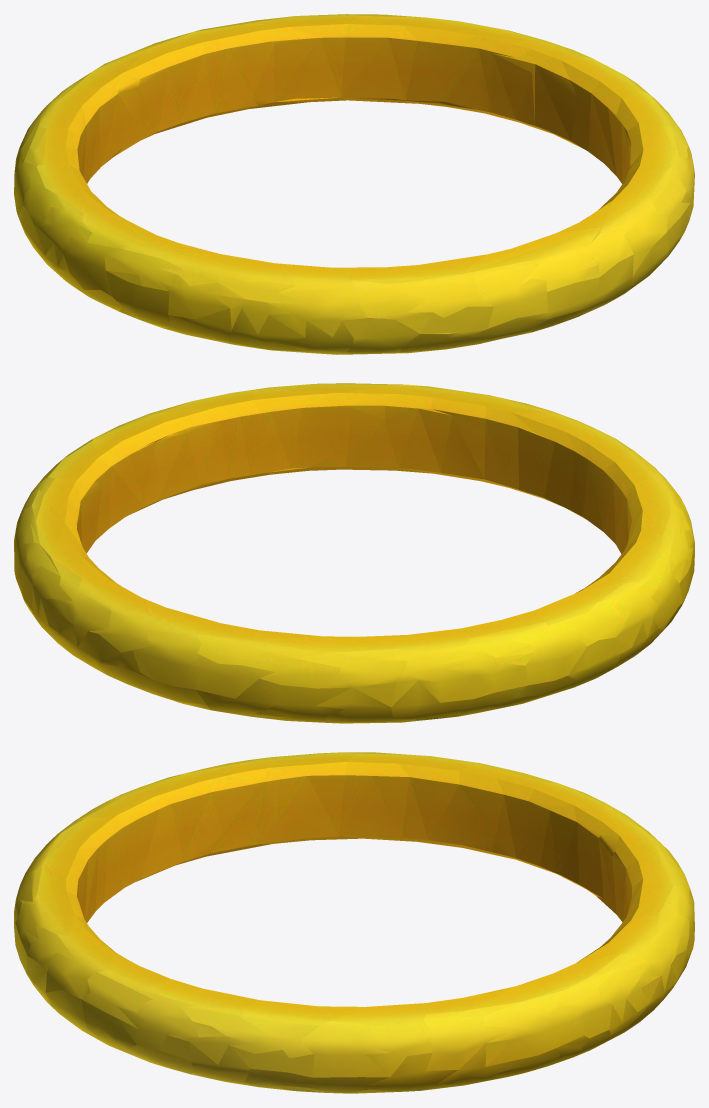
File: halo.glb
The picture shows the model from 3 angles, top to bottom: view 1: azimuth 30°, elevation 25°; view 2: azimuth 150°, elevation 25°; view 3: azimuth 270°, elevation 25°; orthographic projection.
Bounding box in the file's own units: 1.9 × 0.2373 × 1.9.
1 material, 1 textured.
